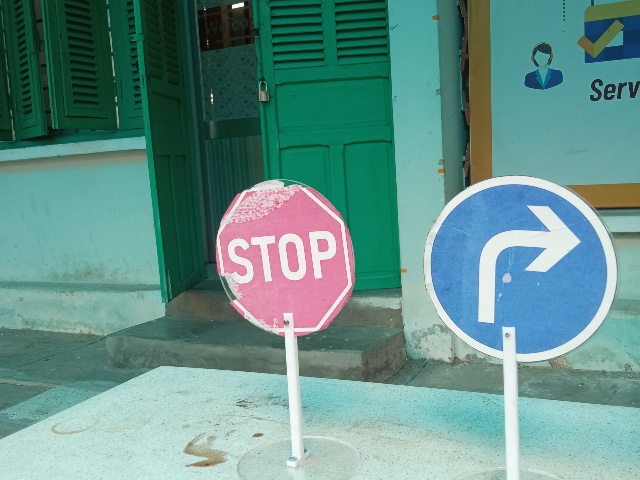Right_Sign: (422, 174, 617, 366)
Stop_Sign: (215, 177, 356, 336)
